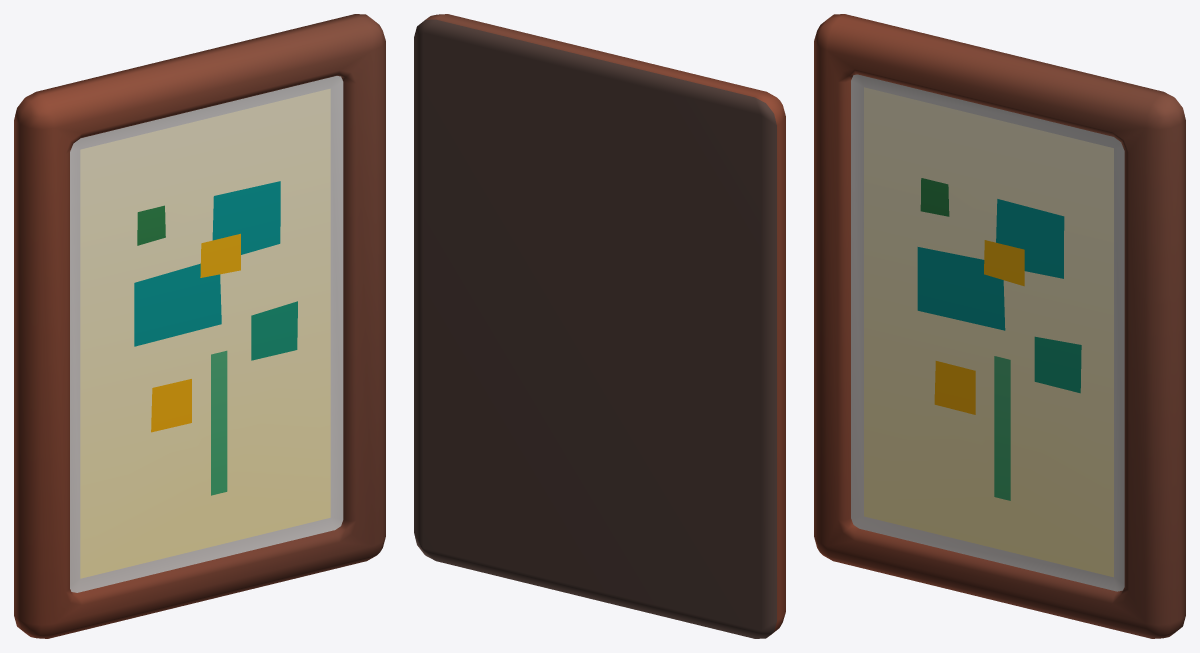
The model's file is Picture_08.glb.
The picture shows the model from 3 angles, left to right: view 1: azimuth 30°, elevation 25°; view 2: azimuth 150°, elevation 25°; view 3: azimuth 330°, elevation 25°; orthographic projection.
Parts seen in each view (by area): view 1: Picture_08; view 2: Picture_08; view 3: Picture_08.
Part boxes in pixels (<box>): Picture_08: <box>14,14,385,638</box>; Picture_08: <box>414,14,785,638</box>; Picture_08: <box>814,14,1185,638</box>.
Bounding box in the file's own units: 0.5673 × 0.8087 × 0.0585.
1 material, 1 textured.
